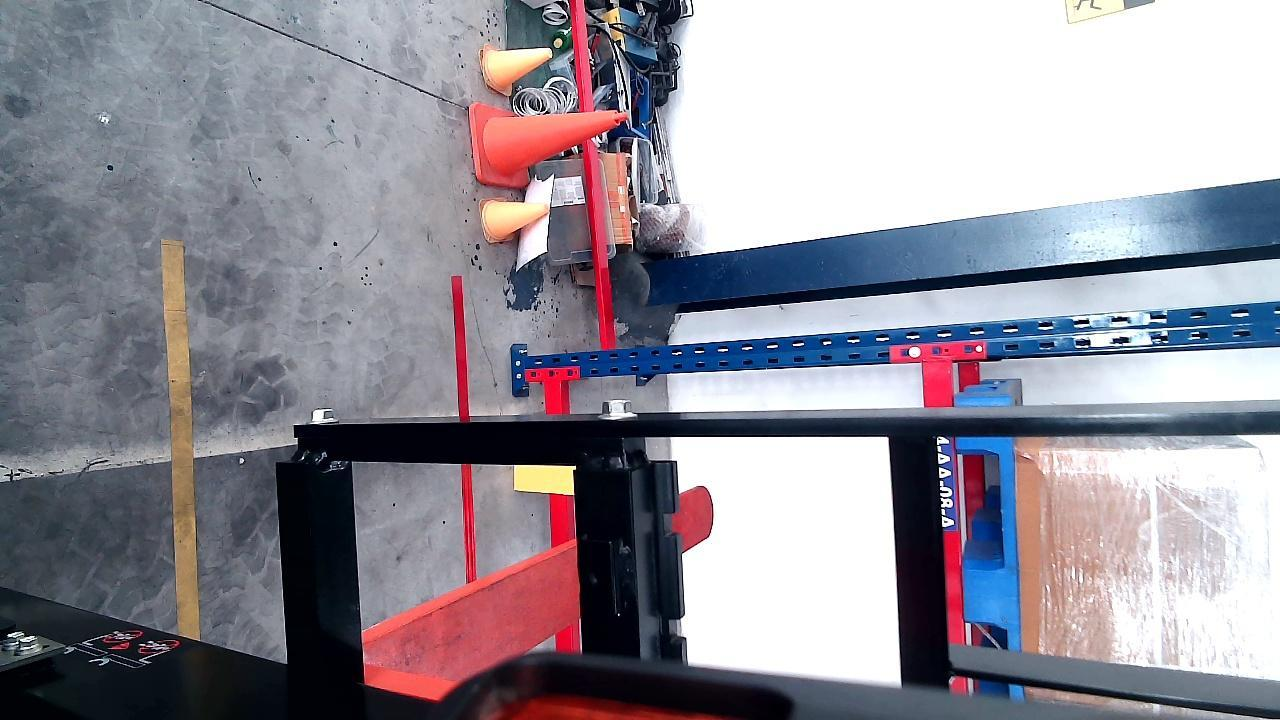red_line: (447, 278, 477, 582)
yellow_line: (157, 236, 199, 642)
